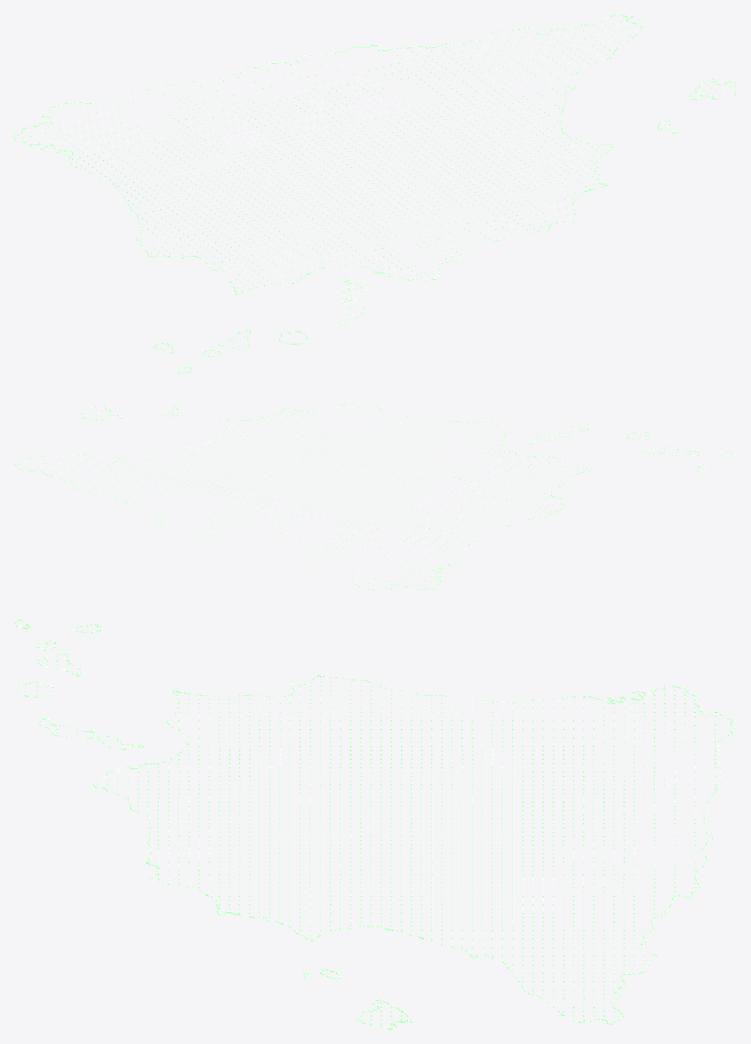
File: Iberica.glb
The picture shows the model from 3 angles, top to bottom: view 1: azimuth 30°, elevation 25°; view 2: azimuth 150°, elevation 25°; view 3: azimuth 270°, elevation 25°; orthographic projection. The views are drawn at different scales.
Visible parts, largest first — view 1: Map; view 2: Map; view 3: Map.
Part boxes in pixels (left/top/right/bottom): Map: left=14, top=14, right=736, bottom=373; Map: left=14, top=402, right=736, bottom=590; Map: left=14, top=619, right=736, bottom=1029.
Size of the model in its own units: 1.9 by 0.00498 by 1.41.
